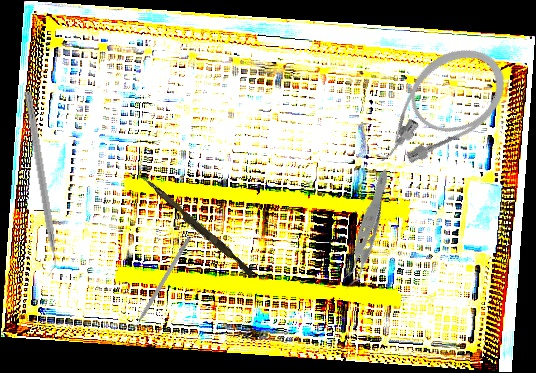Cannula: (351, 32, 521, 184)
Chopper: (14, 91, 61, 277), (124, 233, 192, 335)
Pusher: (137, 175, 257, 277)
Tissue Forceps: (300, 167, 429, 294)
